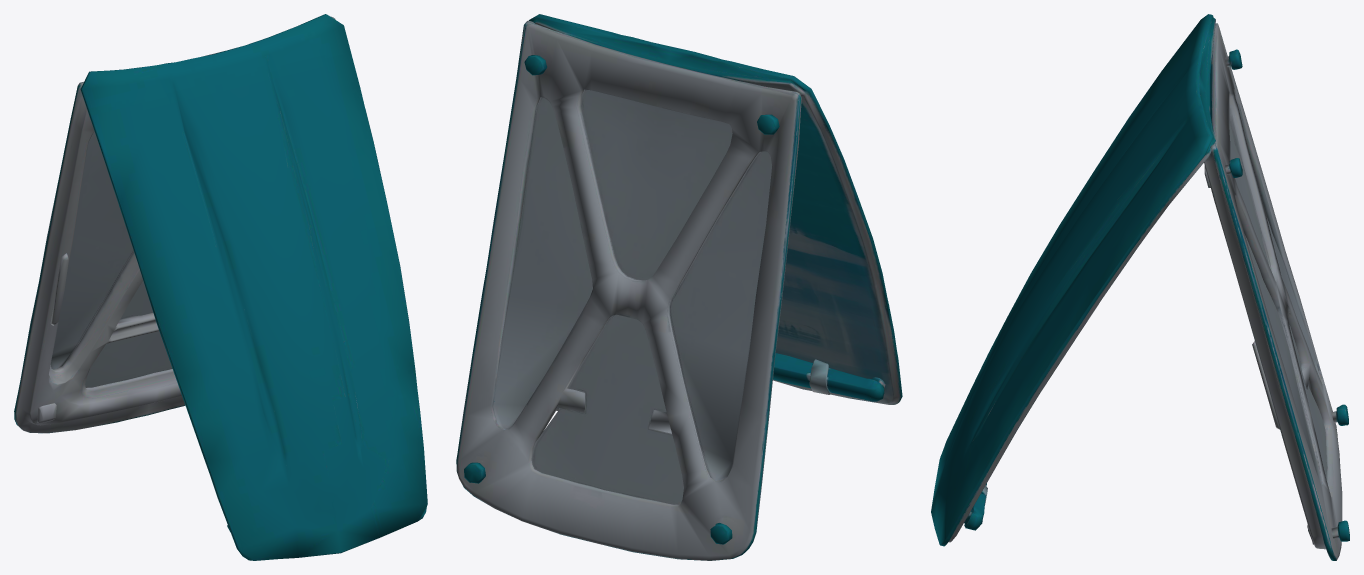
File: original_glb.glb
The picture shows the model from 3 angles, left to right: view 1: azimuth 30°, elevation 25°; view 2: azimuth 150°, elevation 25°; view 3: azimuth 270°, elevation 25°; orthographic projection. The views are drawn at different scales.
Parts seen in each view (by area): view 1: hood; view 2: hood; view 3: hood.
Boxes of the visible parts, <box> form: hood: <box>14,14,427,560</box>; hood: <box>456,14,902,560</box>; hood: <box>931,14,1349,560</box>.
Bounding box in the file's own units: 0.6934 × 0.998 × 0.8613.
Materials: 1 (1 with a texture image).
